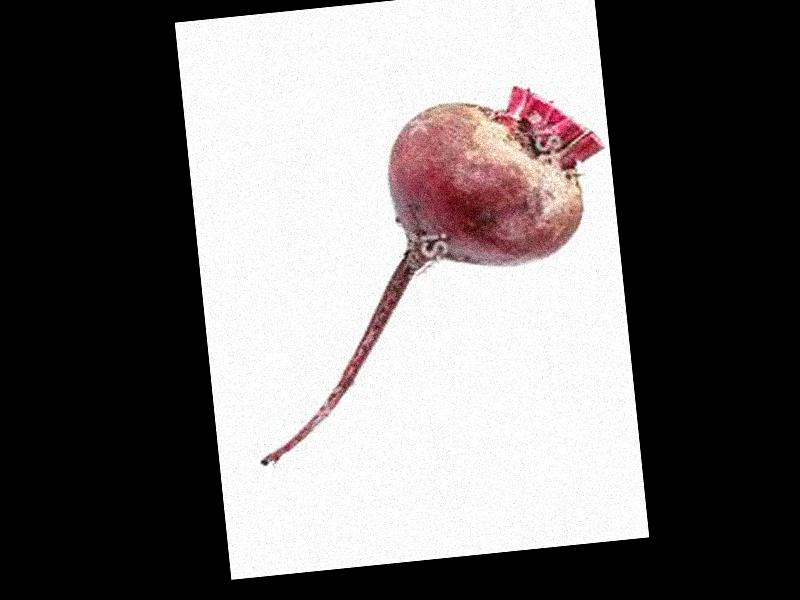Beet: (227, 80, 633, 466)
